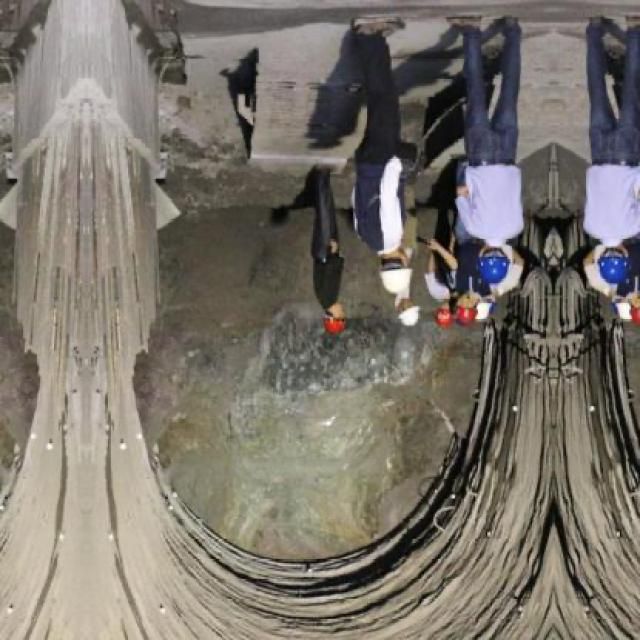con casco: (563, 205, 640, 299), (346, 225, 424, 299), (458, 234, 530, 295), (436, 282, 515, 330), (298, 284, 354, 347), (400, 281, 447, 320)
